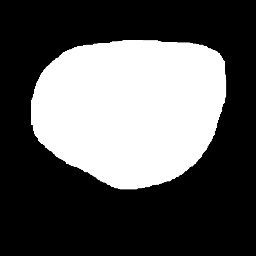mass: (31, 25, 210, 171)
